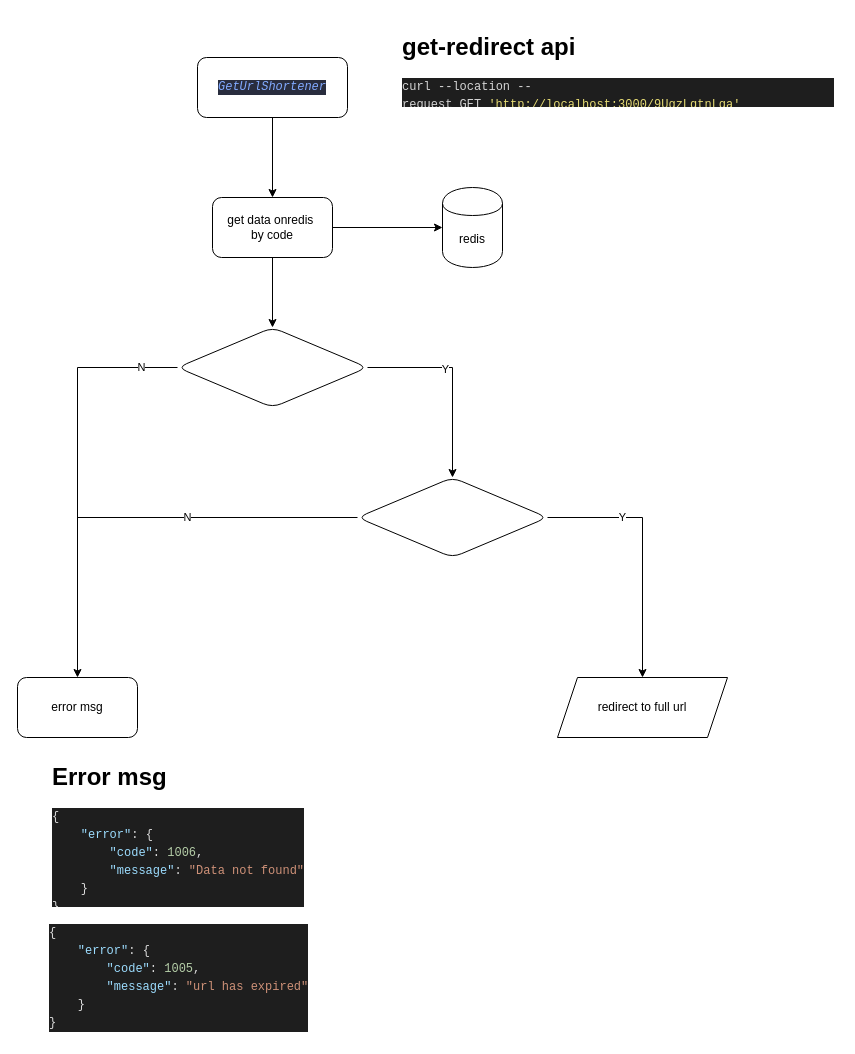
Some shapes in this 855 by 1054 pixel diagram are drawn without their labels. Here are the shapes that lost their labels. From the top down, the centre of each, then its label:
the point at 272,367: check found
the point at 452,517: check expire
